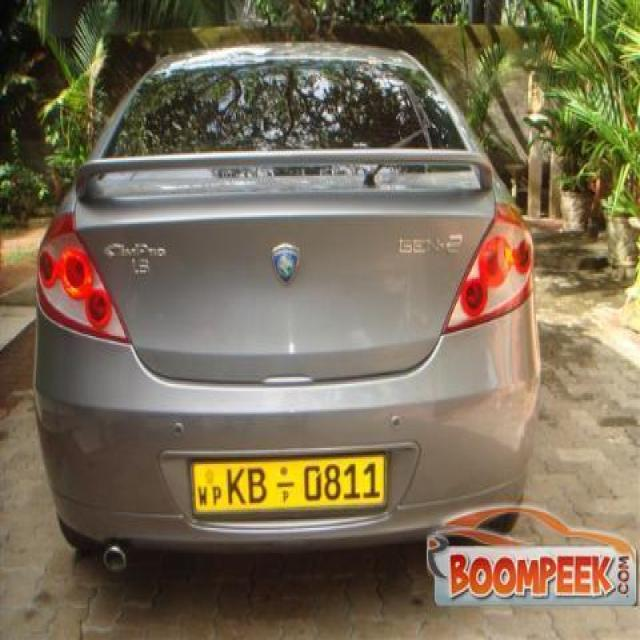license-plate: (185, 455, 387, 514)
